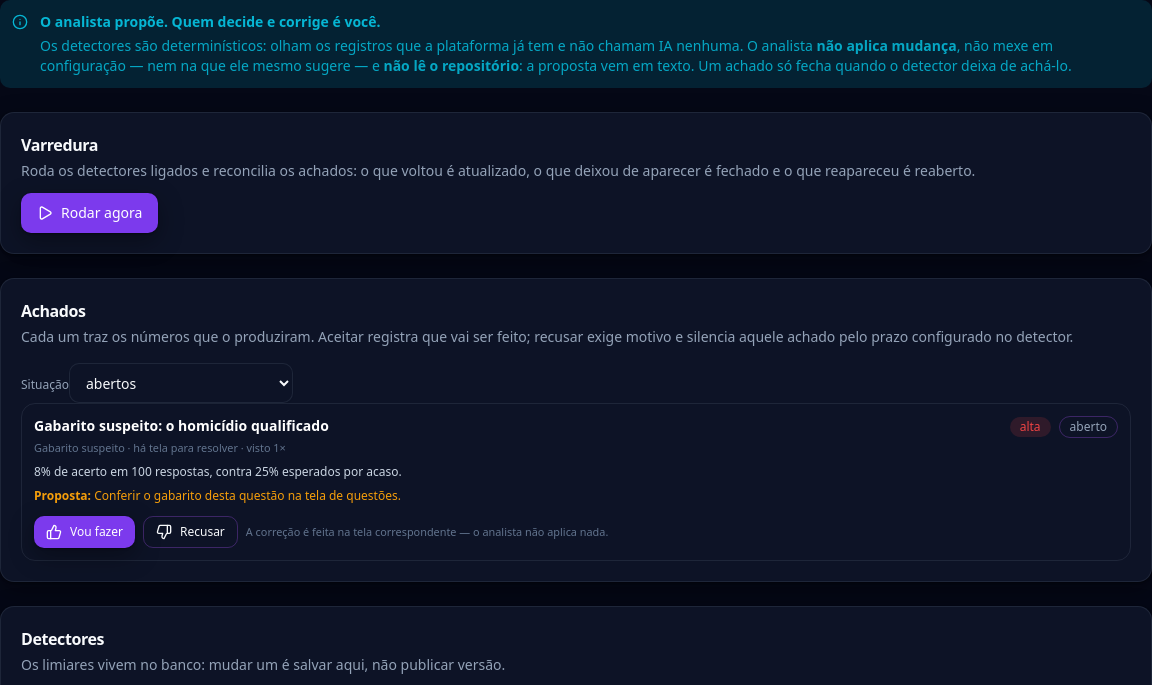
Test: ImprovementsSection › com credencial restrita, a tela diz que ela está em uso
Click the button "Rodar agora".
click(90, 213)  # box [21,193,158,233]
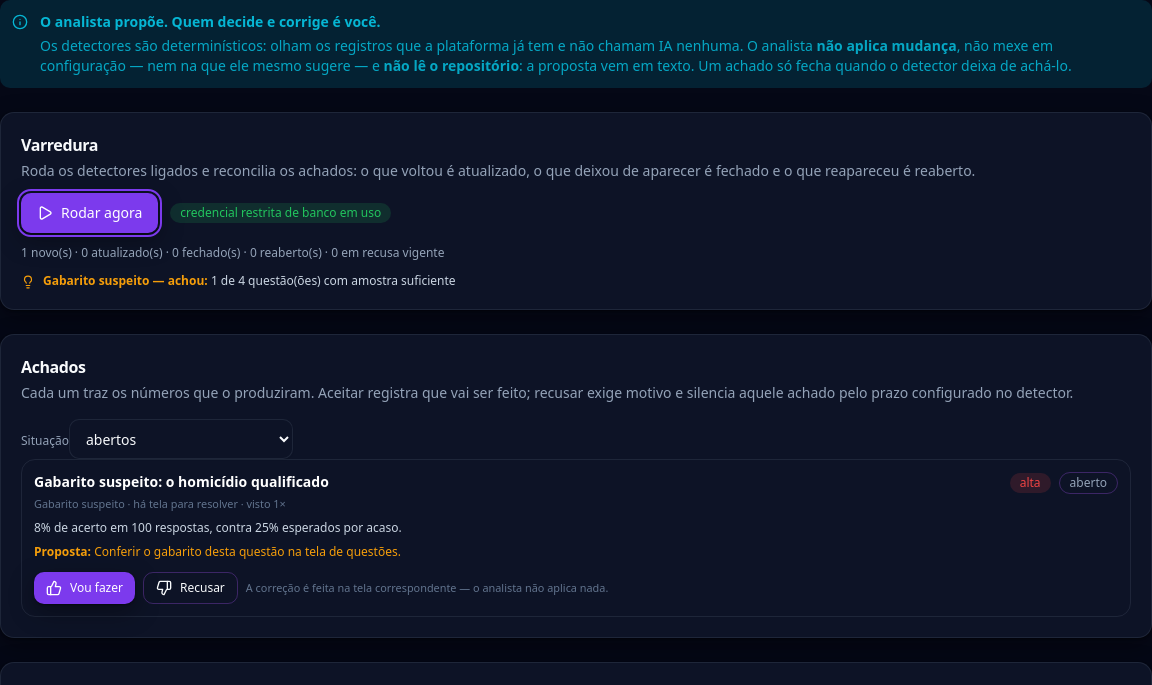
Result: the text "credencial restrita de banco em uso" is shown at [170,203,391,223]
